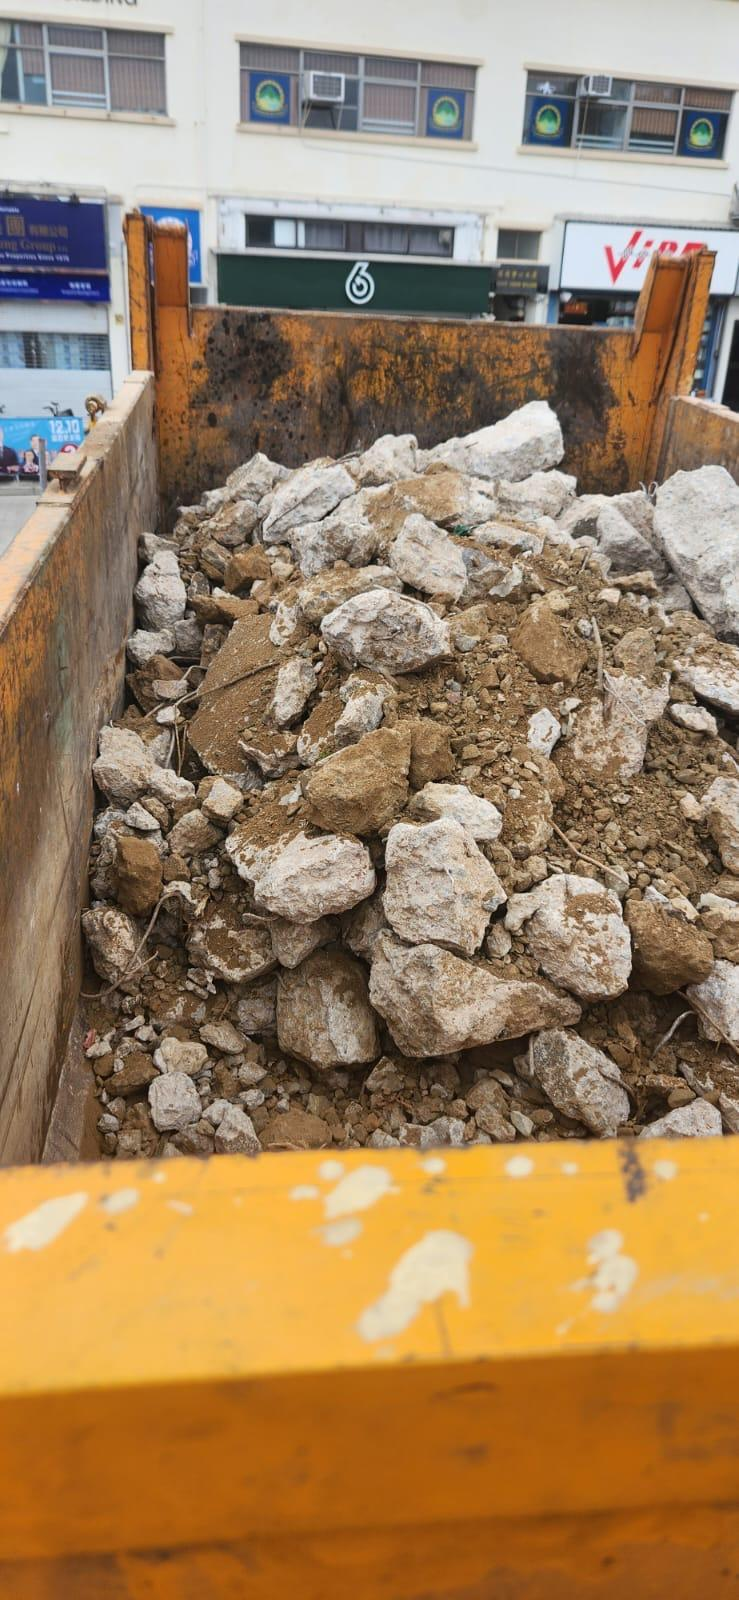stone: (79, 398, 738, 1155), (366, 930, 582, 1058), (380, 815, 508, 956)
